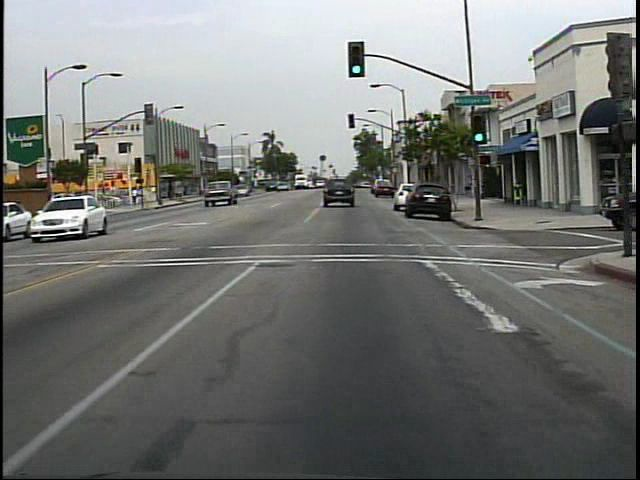person: (134, 184, 139, 207)
